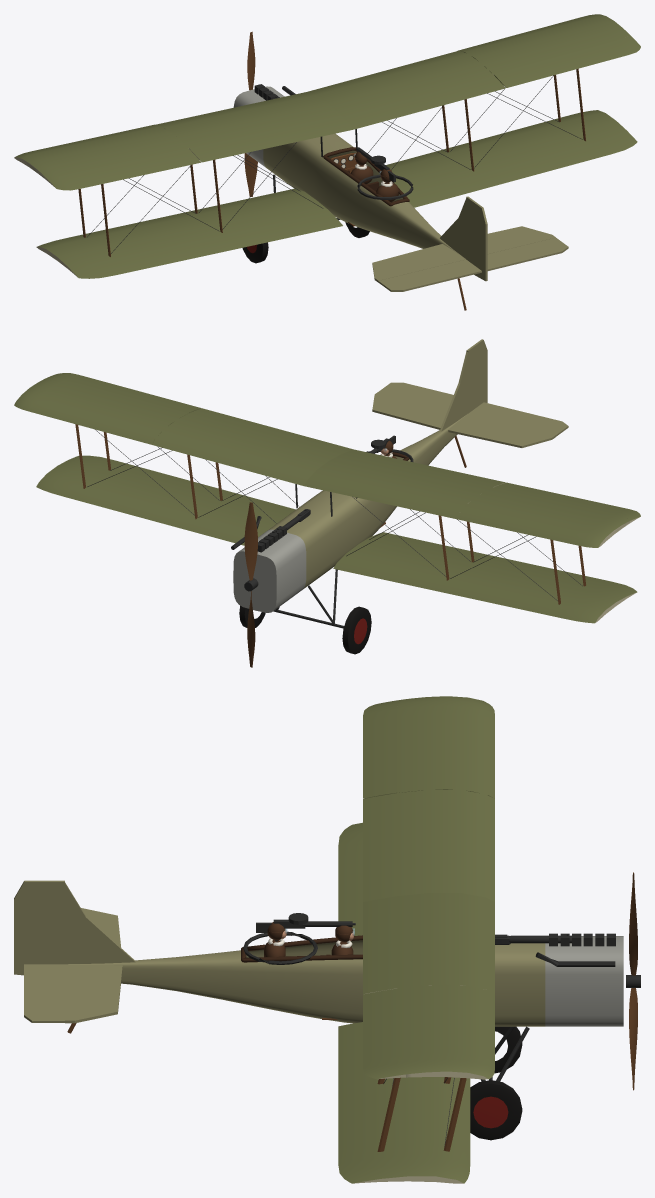
Rendered from halberstadt_clii.glb.
3 renders of one model, top to bottom at view 1: azimuth 30°, elevation 25°; view 2: azimuth 150°, elevation 25°; view 3: azimuth 270°, elevation 25°, orthographic. The views are drawn at different scales.
Visible parts, largest first — view 1: Wing_Lower_L, Wing_Upper_R, Wing_Upper_L, Wing_Lower_R, Fuselage, Elevator, Aileron_R, Aileron_L, Stabilizer_L, Struts, Rudder, Wires (+5 smaller); view 2: Wing_Upper_R, Wing_Upper_L, Wing_Lower_L, Fuselage, Wing_Lower_R, Elevator, Stabilizer_L, Stabilizer_R, Struts, Wheels, PropBlades, Wires (+6 smaller); view 3: Wing_Upper_L, Fuselage, Wing_Upper_R, Wing_Lower_R, Rudder, Wheels, Aileron_L, Aileron_R, Stabilizer_R, Fin, Wing_Lower_L, Elevator (+7 smaller).
Part boxes in pixels (x1,y1,x2,y2): Wing_Lower_L: [36, 188, 342, 278]; Wing_Upper_R: [307, 14, 629, 129]; Wing_Upper_L: [14, 92, 353, 179]; Wing_Lower_R: [386, 110, 637, 207]; Fuselage: [233, 86, 465, 258]; Elevator: [378, 237, 568, 291]; Aileron_R: [493, 35, 640, 87]; Aileron_L: [45, 148, 201, 190]; Stabilizer_L: [372, 244, 465, 282]; Struts: [78, 68, 585, 256]; Rudder: [466, 196, 487, 281]; Wires: [87, 75, 582, 253]; Wing_Upper_R: [14, 377, 353, 485]; Wing_Upper_L: [304, 449, 629, 547]; Wing_Lower_L: [333, 532, 637, 623]; Fuselage: [233, 415, 465, 612]; Wing_Lower_R: [36, 455, 295, 545]; Elevator: [379, 382, 568, 436]; Stabilizer_L: [448, 413, 555, 447]; Stabilizer_R: [372, 391, 447, 429]; Struts: [75, 424, 585, 604]; Wheels: [239, 605, 371, 654]; PropBlades: [244, 502, 258, 667]; Wires: [87, 429, 582, 600]; Wing_Upper_L: [363, 696, 494, 901]; Fuselage: [68, 936, 623, 1026]; Wing_Upper_R: [363, 893, 494, 1079]; Wing_Lower_R: [338, 1022, 470, 1183]; Rudder: [14, 880, 64, 975]; Wheels: [470, 1026, 522, 1140]; Aileron_L: [363, 699, 404, 798]; Aileron_R: [363, 988, 405, 1079]; Stabilizer_R: [65, 964, 122, 1023]; Fin: [65, 882, 135, 964]; Wing_Lower_L: [338, 822, 362, 935]; Elevator: [24, 964, 64, 1022].
Bounding box in the file's own units: 10.77 × 3.11 × 7.6.
